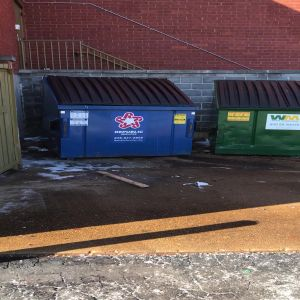Dumpster: (38, 72, 199, 160), (211, 79, 300, 156)
